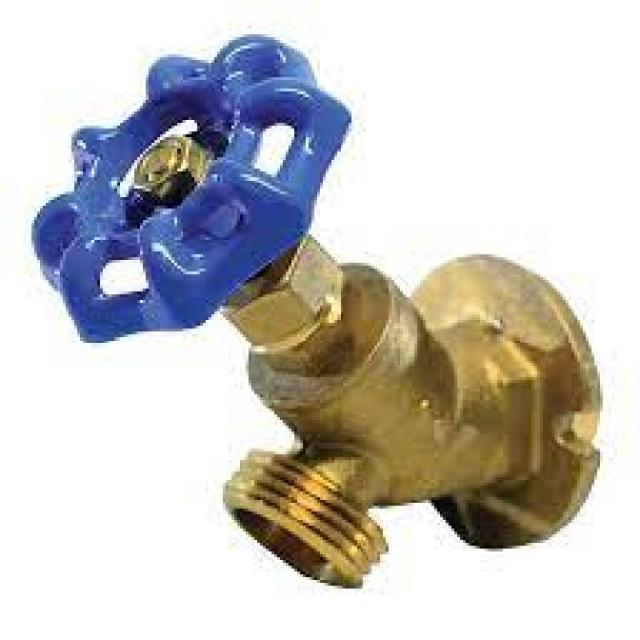Wheel Handle Valve Threaded: (28, 23, 367, 348)
